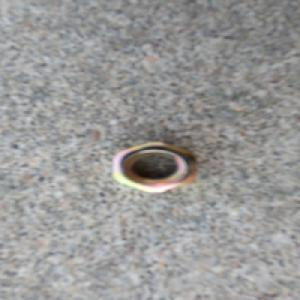Nut: (111, 140, 198, 194)
